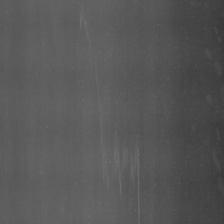silk_spot: (98, 109, 146, 200), (77, 10, 97, 58)
